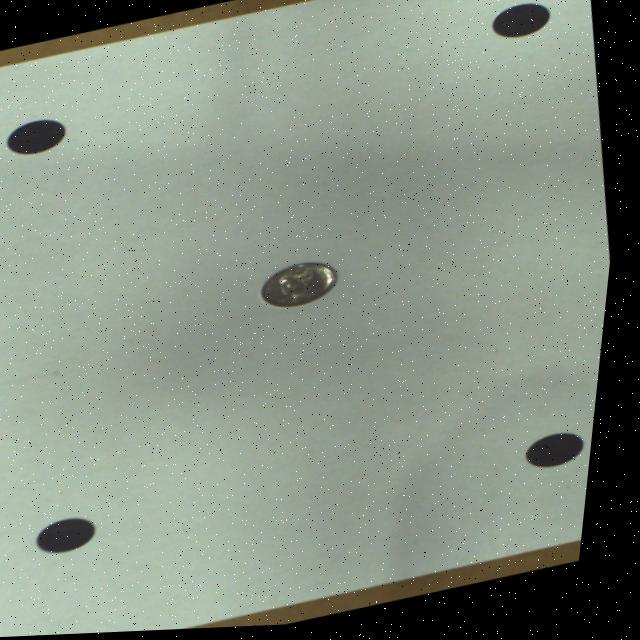head1bath: (266, 265, 341, 310)
space: (48, 519, 106, 555), (8, 120, 67, 155), (534, 438, 592, 473), (493, 8, 549, 42)
